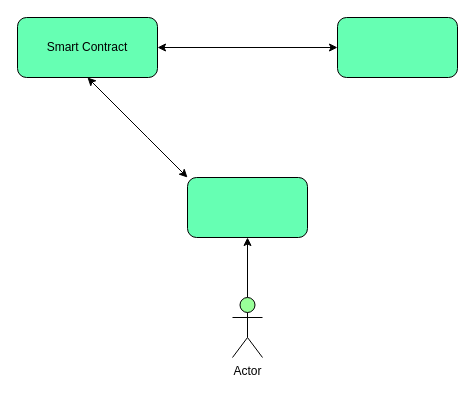
Image size: 475x396. Some labels were removed from this diagram. The shapes that lost their labels are listed below. From the top down, each one's centre as x and y in pixels, then its label:
At point 397,47: "IPFS".
At point 247,207: "App/Web Interface FIR Portal".
